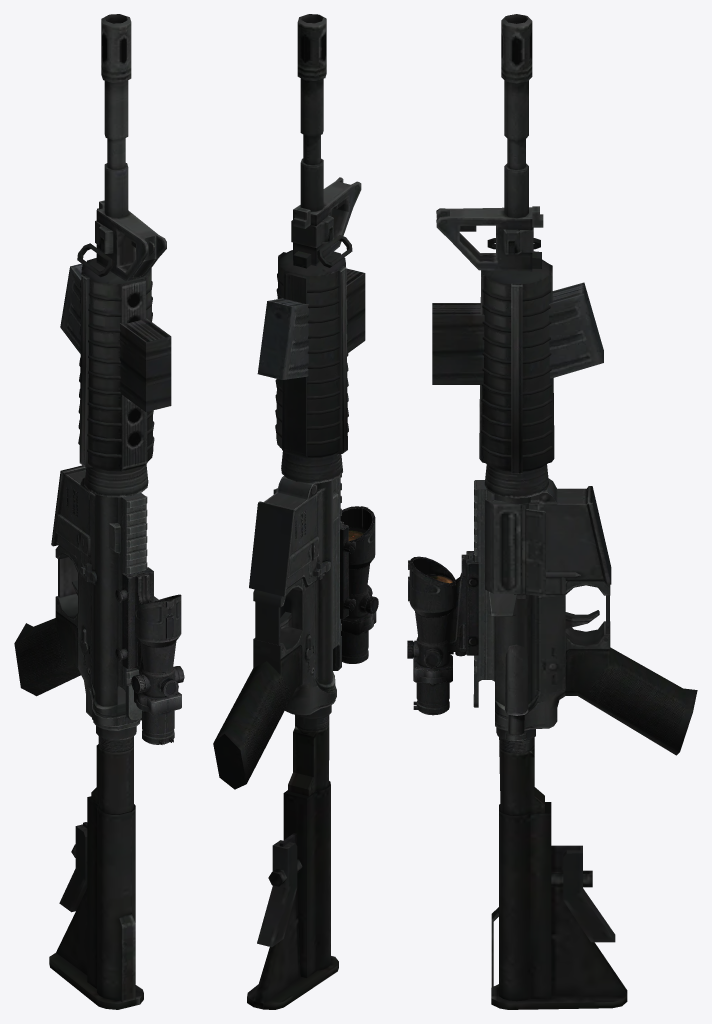
Rendered from M4A1_Scope2.obj.
The picture shows the model from 3 angles, left to right: view 1: azimuth 30°, elevation 25°; view 2: azimuth 150°, elevation 25°; view 3: azimuth 270°, elevation 25°; orthographic projection. The views are drawn at different scales.
Visible parts, largest first — view 1: Model_M4A1, Model_Magazine; view 2: Model_M4A1, Model_Magazine; view 3: Model_M4A1, Model_Magazine.
Part boxes in pixels (box(x1,y1,x2,y2)): Model_M4A1: box(14, 14, 184, 1009); Model_Magazine: box(60, 263, 171, 411); Model_M4A1: box(213, 14, 378, 1009); Model_Magazine: box(257, 268, 365, 379); Model_M4A1: box(407, 14, 697, 1009); Model_Magazine: box(432, 282, 603, 384).
Bounding box in the file's own units: 0.0679 × 0.8631 × 0.2316.
2 materials, 2 textured.
